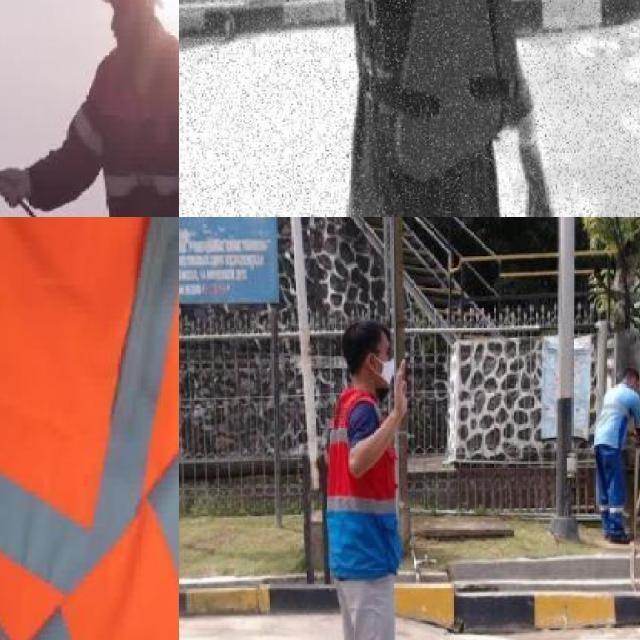apron: (512, 106, 560, 217)
